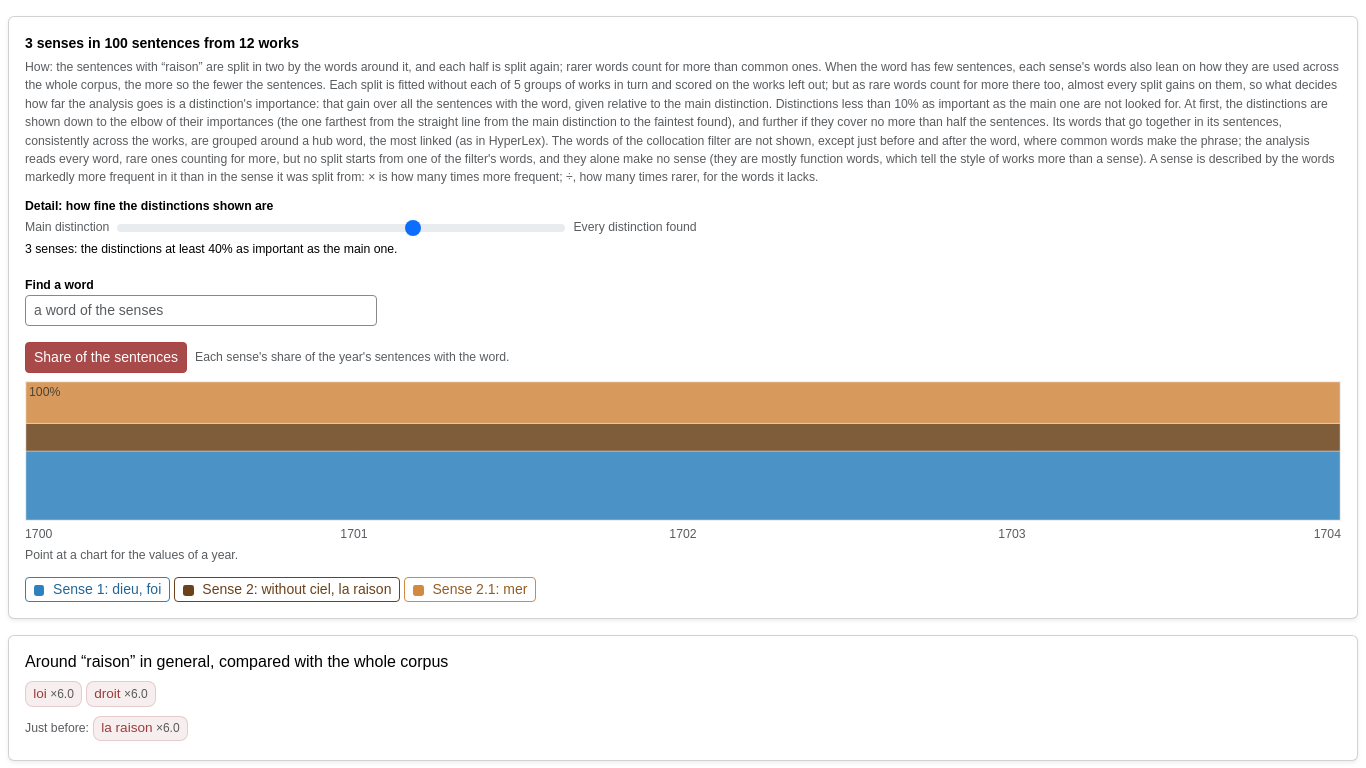
it: WordSenses › shows finer distinctions as the slider moves, and fewer back
The width and height of the screenshot is (1366, 768).
Step 1. Set the slider with id "word-senses-detail" to "3" → (557, 228), box [117, 216, 565, 240]
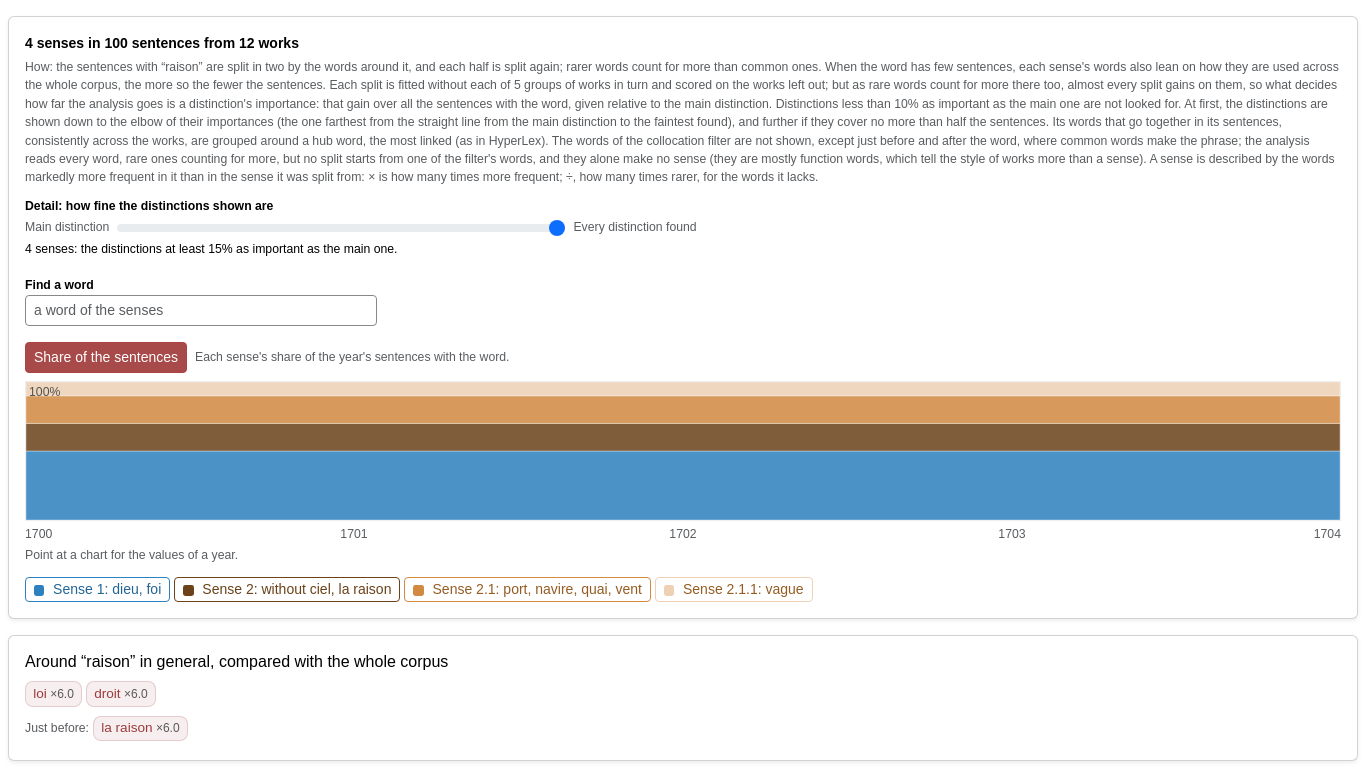
expect the text "4 senses: the distinctions at least 15% as important as the main one." is shown: met, box [25, 242, 398, 256]
Step 2. Set the slider with id "word-senses-detail" to "1" → (269, 228), box [117, 216, 565, 240]
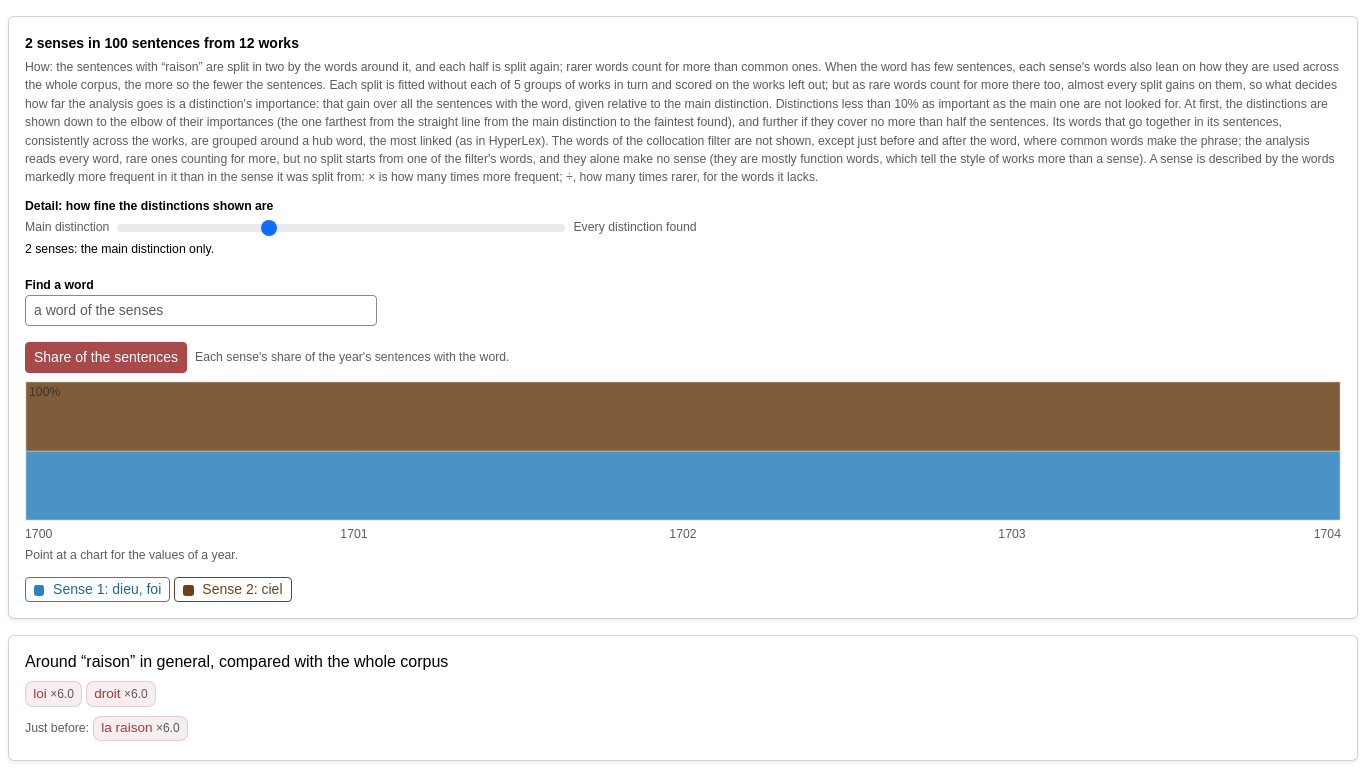
expect the text "2 senses: the main distinction only." is shown: met, box [25, 242, 214, 256]
Step 3. Set the slider with id "word-senses-detail" to "0" → (125, 228), box [117, 216, 565, 240]
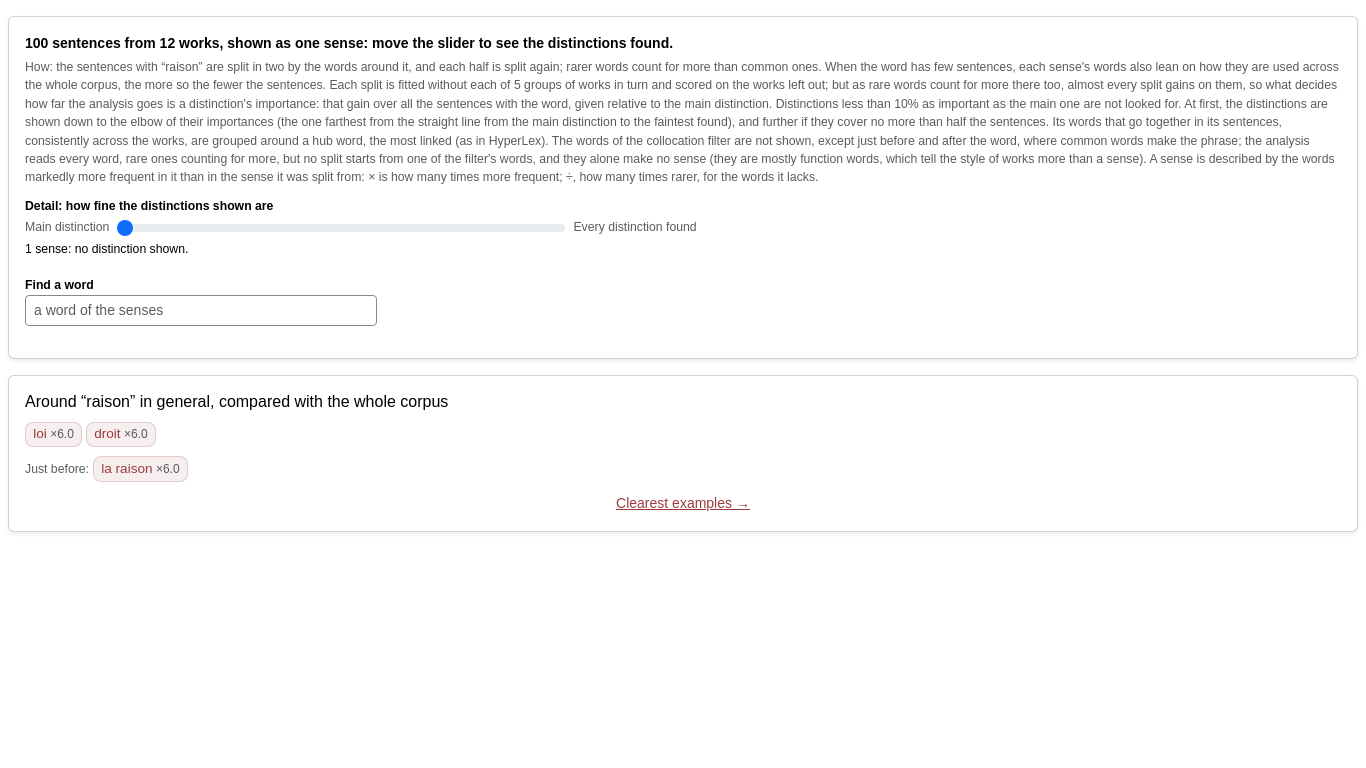
expect the text "100 sentences from 12 works, shown as one sense: move the slider" is shown: met, box [25, 35, 673, 51]
